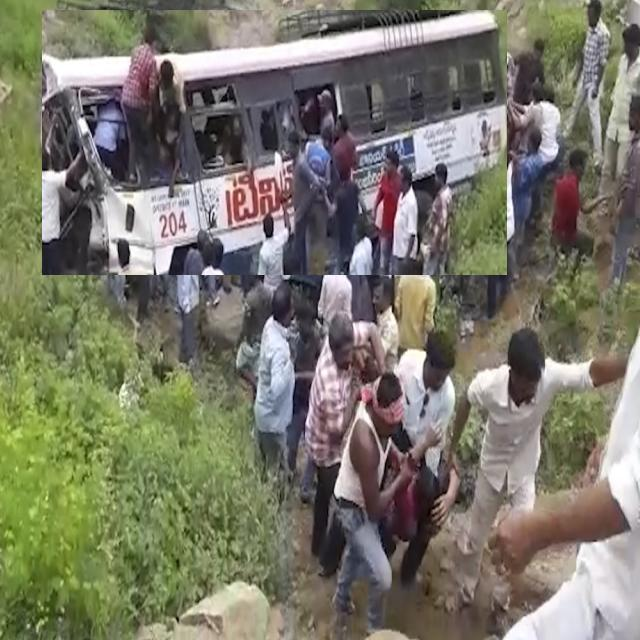accident: (42, 11, 506, 275)
